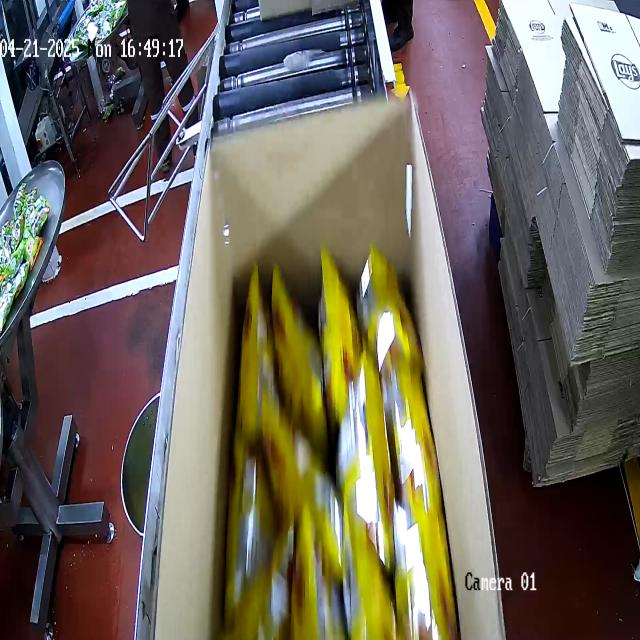SALTED: (233, 254, 453, 640)
